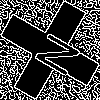N: (25, 25, 82, 80)
